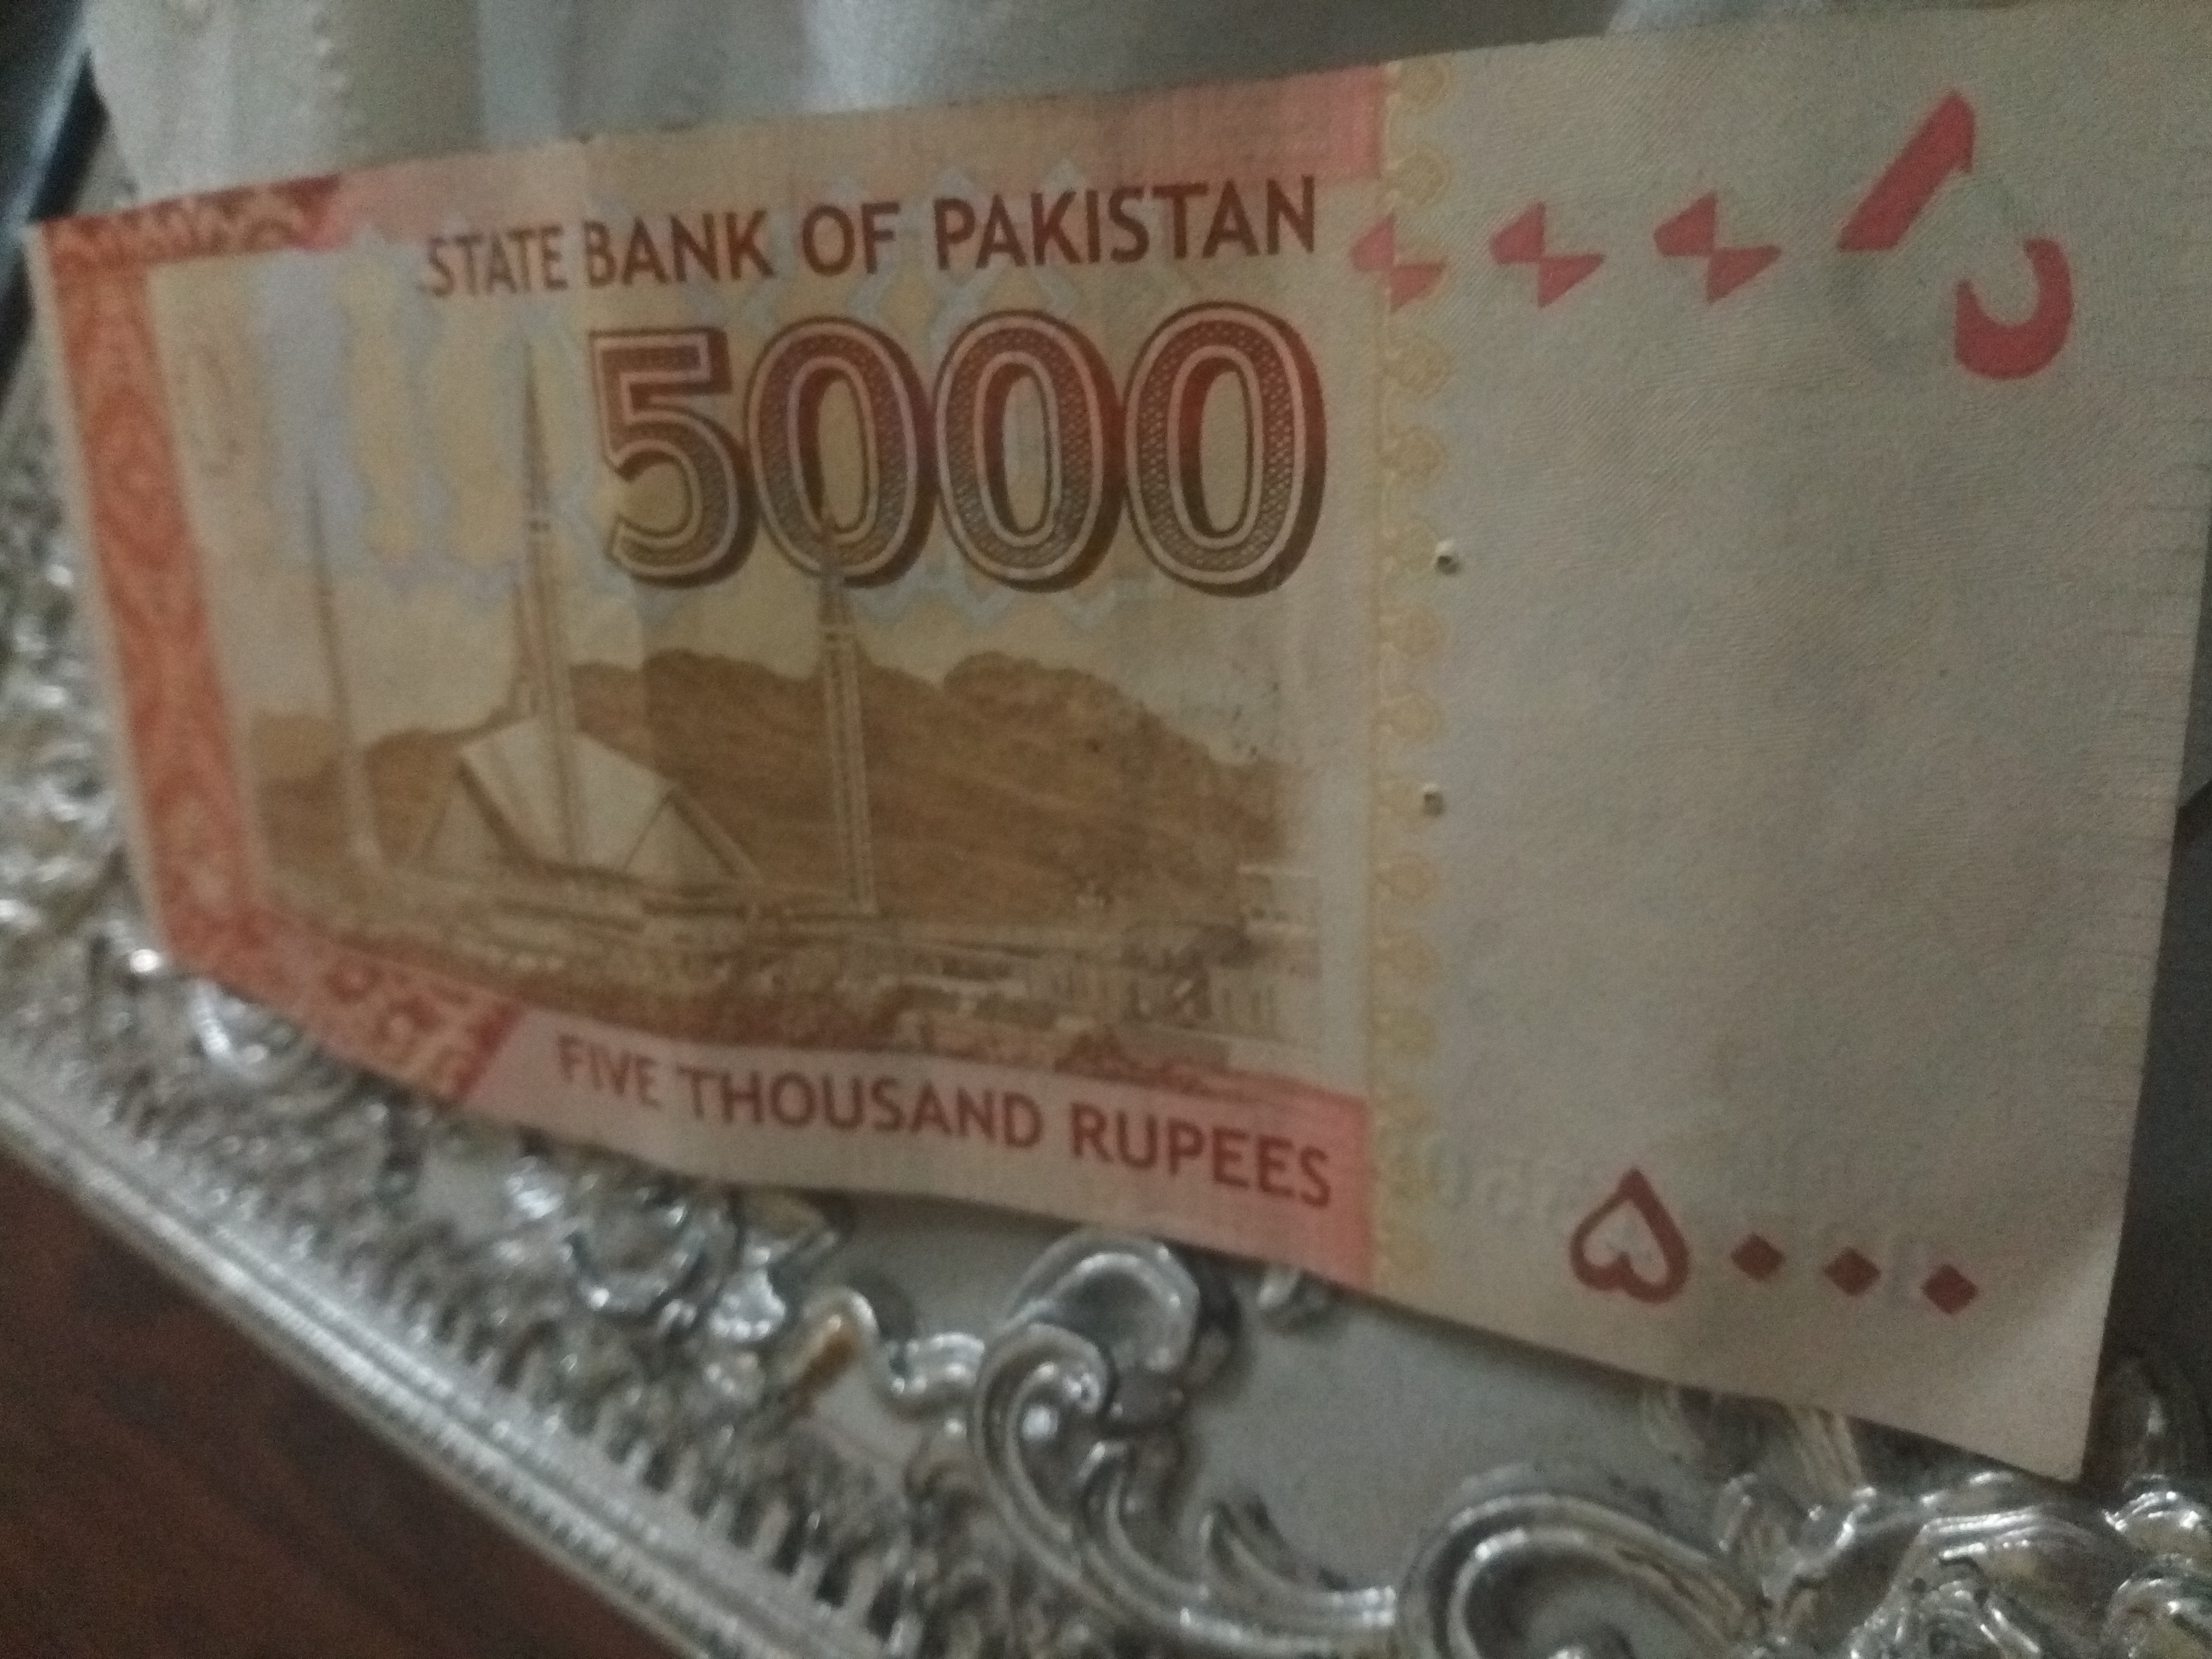5000 rupee: (40, 110, 2137, 1476)
